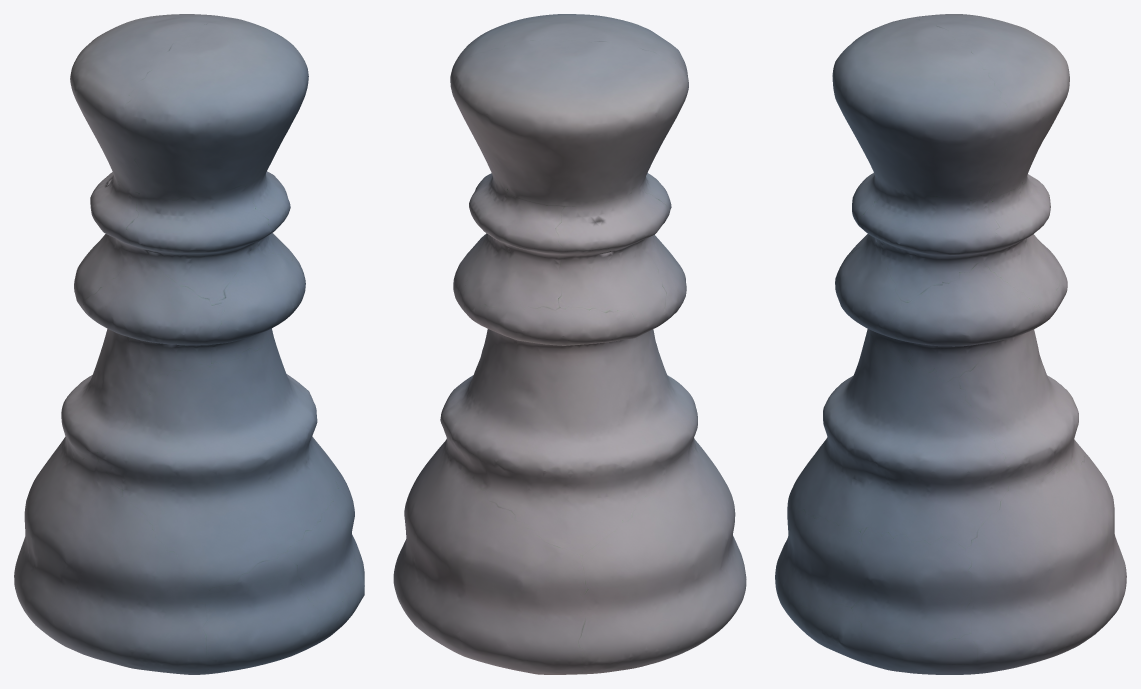
File: peao.fbx
The picture shows the model from 3 angles, left to right: view 1: azimuth 30°, elevation 25°; view 2: azimuth 150°, elevation 25°; view 3: azimuth 270°, elevation 25°; orthographic projection.
Parts seen in each view (by area): view 1: Mesh_0; view 2: Mesh_0; view 3: Mesh_0.
Part boxes in pixels (bbox=[...]): Mesh_0: bbox=[14, 14, 364, 674]; Mesh_0: bbox=[393, 14, 746, 674]; Mesh_0: bbox=[775, 14, 1126, 674].
Size of the model in its own units: 65.26 by 120 by 65.38.
Materials: 1 (1 with a texture image).
